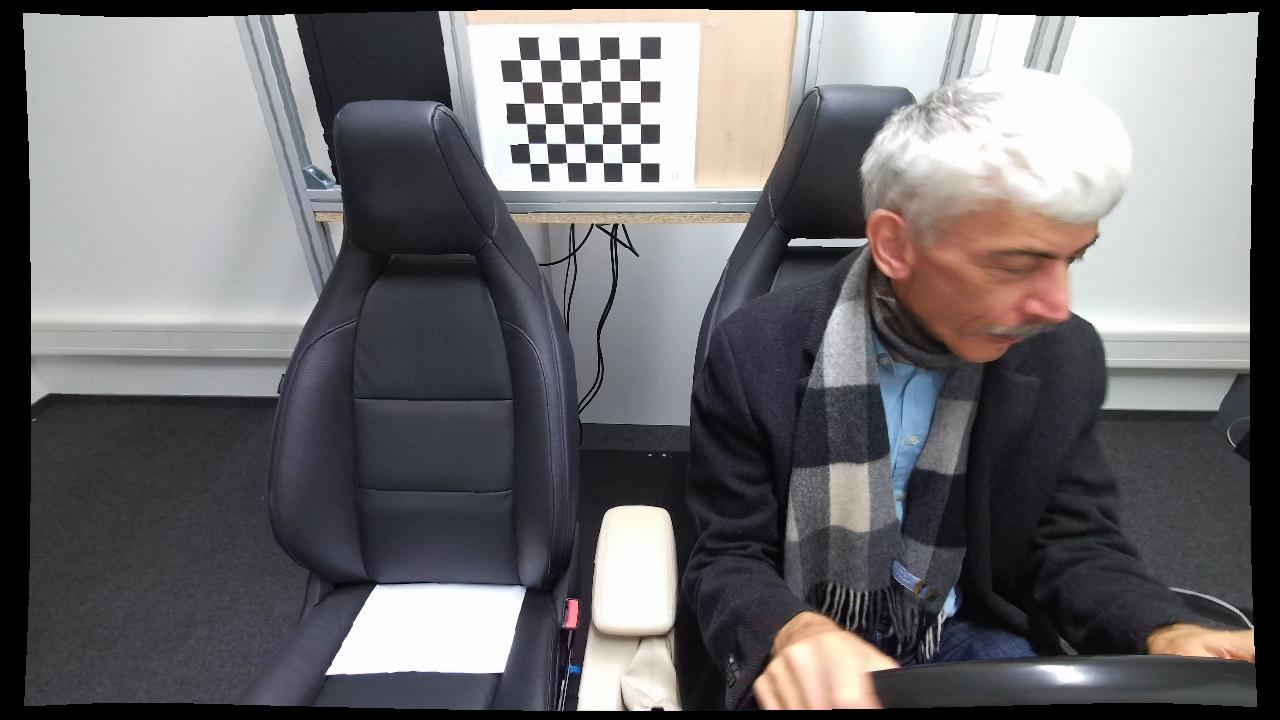Distracted: (685, 66, 1179, 710)
